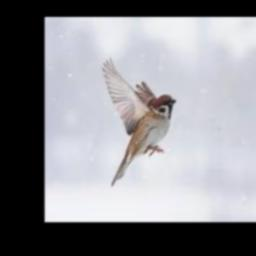Sparrow: (100, 57, 176, 186)
